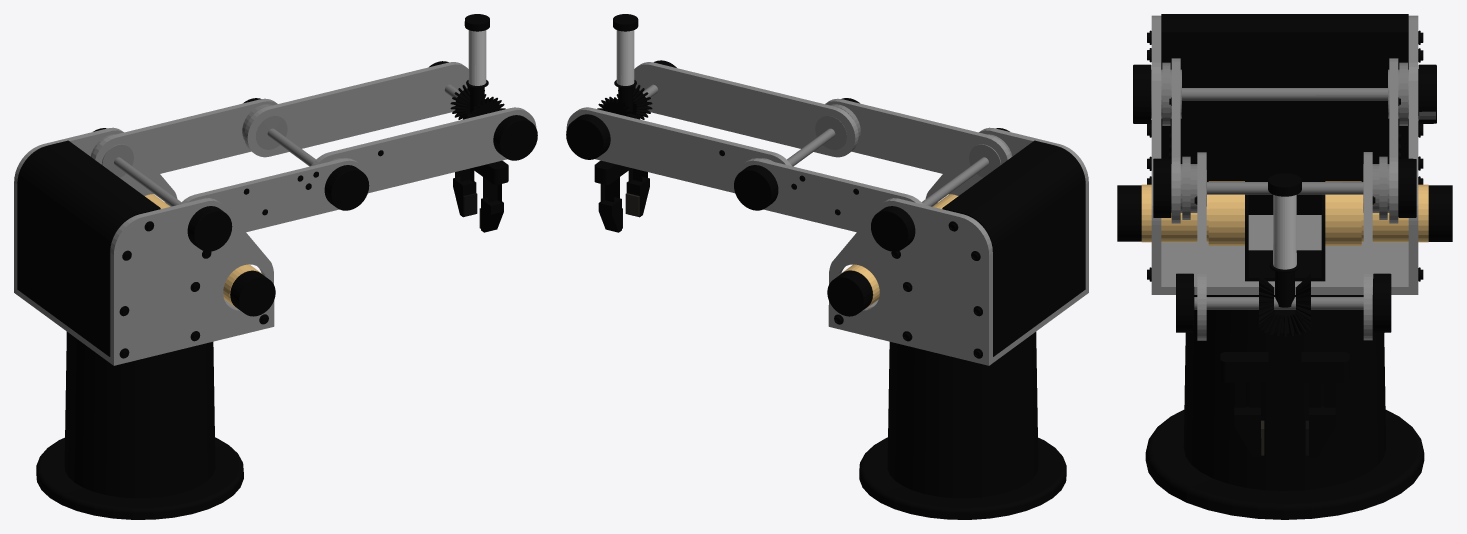
Rendered from ScorbotIK4.fbx.
The picture shows the model from 3 angles, left to right: view 1: azimuth 30°, elevation 25°; view 2: azimuth 150°, elevation 25°; view 3: azimuth 270°, elevation 25°; orthographic projection. The views are drawn at different scales.
Visible parts, largest first — view 1: Hombro, Base, Antebrazo, Brazo, Mano; view 2: Hombro, Base, Antebrazo, Brazo, Mano; view 3: Hombro, Base, Mano, Brazo, Antebrazo.
Part boxes in pixels (bbox=[...]): Hombro: bbox=[14, 127, 275, 365]; Base: bbox=[36, 331, 243, 519]; Antebrazo: bbox=[244, 61, 537, 193]; Brazo: bbox=[92, 98, 369, 232]; Mano: bbox=[453, 14, 508, 232]; Hombro: bbox=[827, 127, 1088, 365]; Base: bbox=[859, 332, 1066, 519]; Antebrazo: bbox=[566, 60, 858, 193]; Brazo: bbox=[734, 98, 1010, 232]; Mano: bbox=[594, 14, 649, 232]; Hombro: bbox=[1117, 14, 1452, 294]; Base: bbox=[1145, 295, 1424, 519]; Mano: bbox=[1220, 173, 1349, 457]; Brazo: bbox=[1153, 58, 1416, 223]; Antebrazo: bbox=[1176, 152, 1391, 340].
Bounding box in the file's own units: 58.04 × 45.77 × 27.76.
